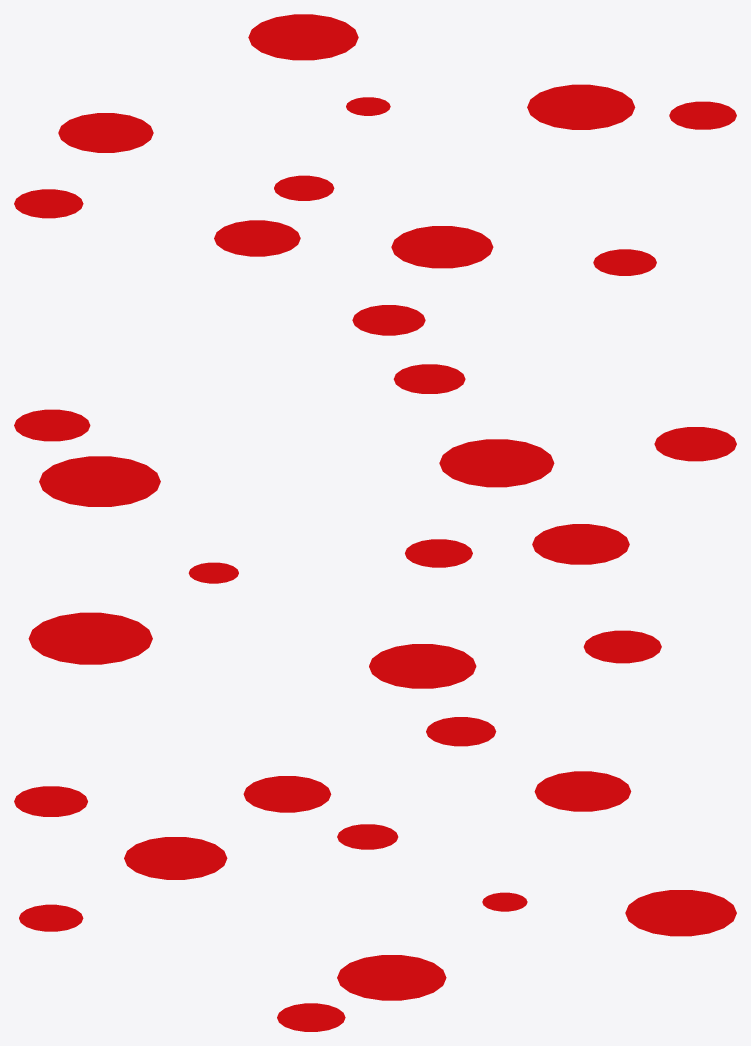
Rendered from Peperoni.glb.
3 renders of one model, top to bottom at view 1: azimuth 30°, elevation 25°; view 2: azimuth 150°, elevation 25°; view 3: azimuth 270°, elevation 25°, orthographic. The views are drawn at different scales.
Parts seen in each view (by area): view 1: Peperoni; view 2: Peperoni; view 3: Peperoni.
Boxes of the visible parts, x1,y1,x2,y2 form: Peperoni: (14, 14, 736, 335); Peperoni: (14, 364, 736, 688); Peperoni: (14, 717, 736, 1031).
Size of the model in its own units: 4.41 by 0.0168 by 4.26.
